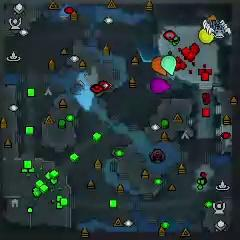p2: (161, 55, 177, 76)
p3: (151, 78, 171, 95)
p4: (198, 27, 214, 45)
p5: (151, 56, 167, 76)
